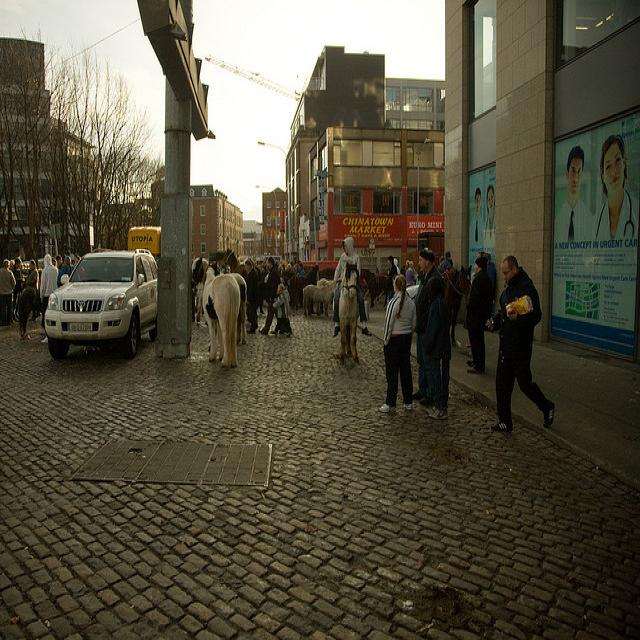Vehicle: (43, 247, 158, 361)
